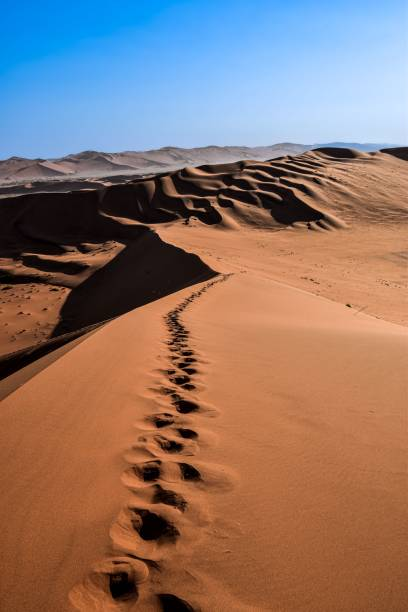human_footprint: (70, 276, 232, 609)
